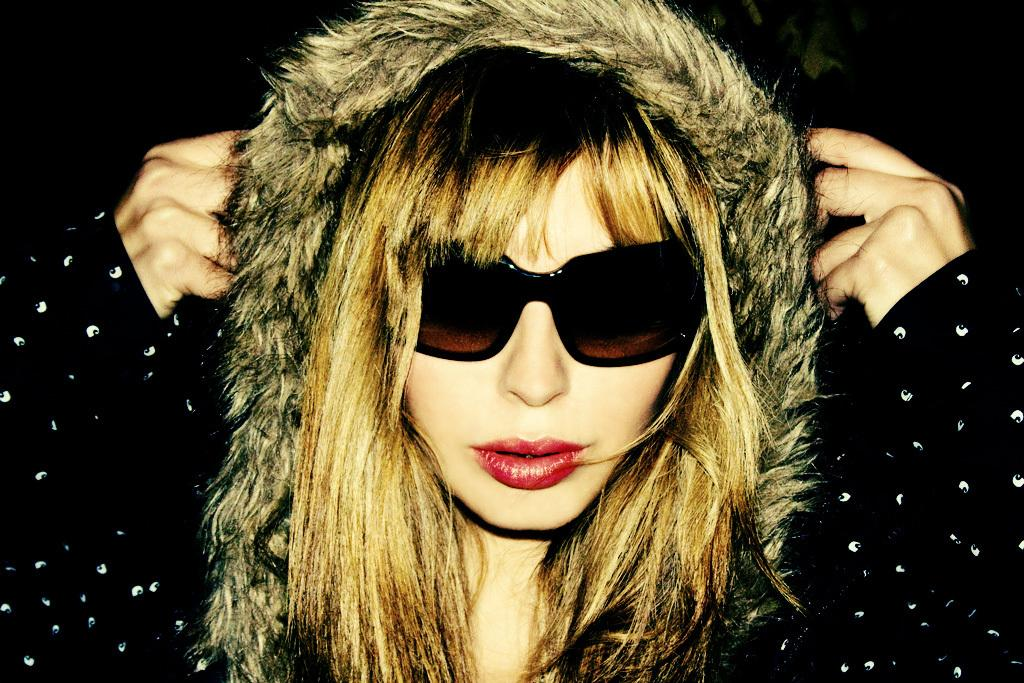Sem Máscara: (391, 151, 677, 528)
